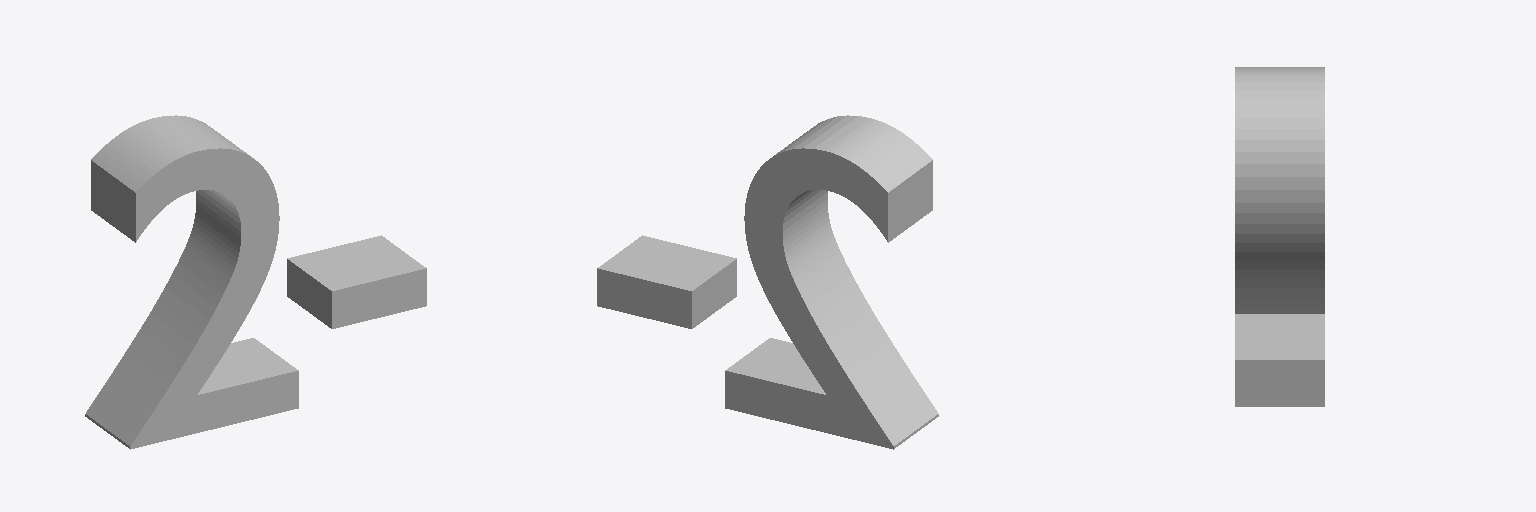
The model's file is two.obj.
3 views of the same model, side by side, from view 1: azimuth 30°, elevation 25°; view 2: azimuth 150°, elevation 25°; view 3: azimuth 270°, elevation 25° (orthographic).
Parts seen in each view (by area): view 1: Blue_Team__Text; view 2: Blue_Team__Text; view 3: Blue_Team__Text.
Part boxes in pixels (left/top/right/bottom): Blue_Team__Text: left=85, top=115, right=426, bottom=449; Blue_Team__Text: left=597, top=115, right=938, bottom=449; Blue_Team__Text: left=1235, top=67, right=1324, bottom=406.
Size of the model in its own units: 0.7602 by 0.691 by 0.2.